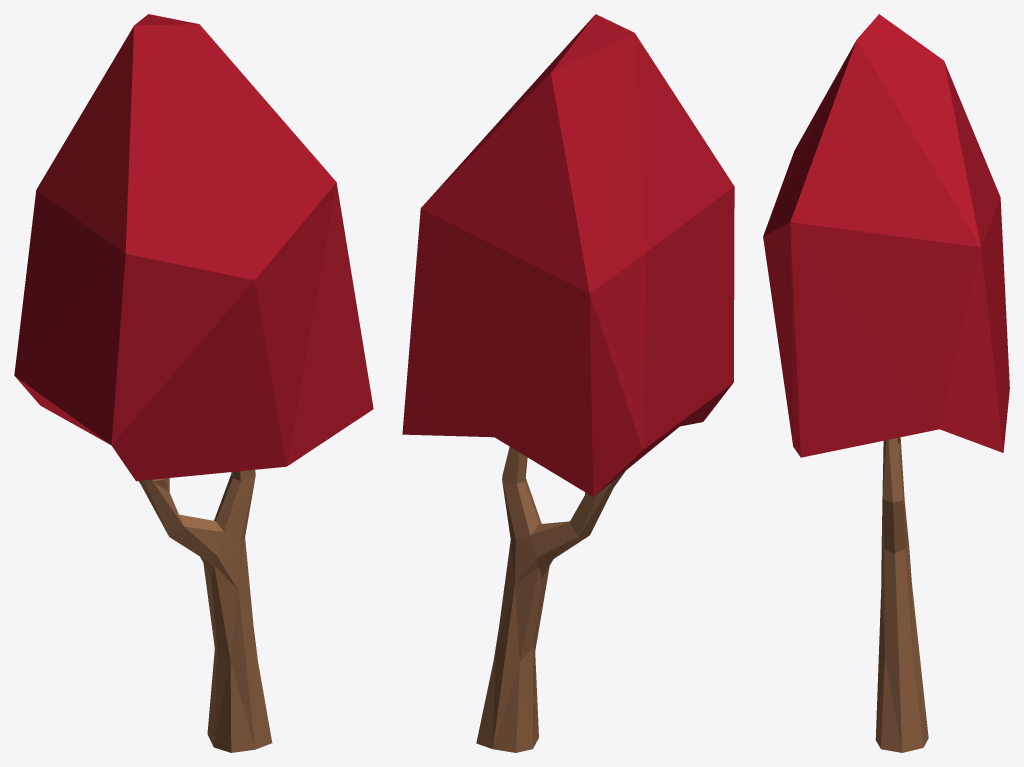
File: tree-dead-complete-7-011.glb
3 views of the same model, side by side, from view 1: azimuth 30°, elevation 25°; view 2: azimuth 150°, elevation 25°; view 3: azimuth 270°, elevation 25° (orthographic). The views are drawn at different scales.
Parts seen in each view (by area): view 1: TREE 7.007_518, TREE 7.006_519; view 2: TREE 7.007_518, TREE 7.006_519; view 3: TREE 7.007_518, TREE 7.006_519.
Boxes of the visible parts, x1,y1,x2,y2 form: TREE 7.007_518: (14, 14, 373, 481); TREE 7.006_519: (138, 469, 272, 752); TREE 7.007_518: (402, 14, 734, 496); TREE 7.006_519: (476, 447, 625, 752); TREE 7.007_518: (763, 14, 1009, 457); TREE 7.006_519: (875, 437, 928, 752).
Size of the model in its own units: 0.7087 by 1.95 by 0.6447.
